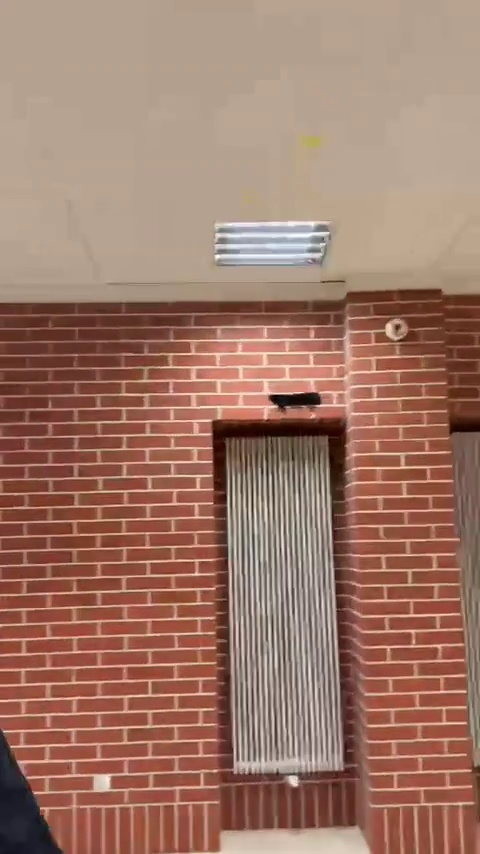drone: (267, 390, 322, 409)
